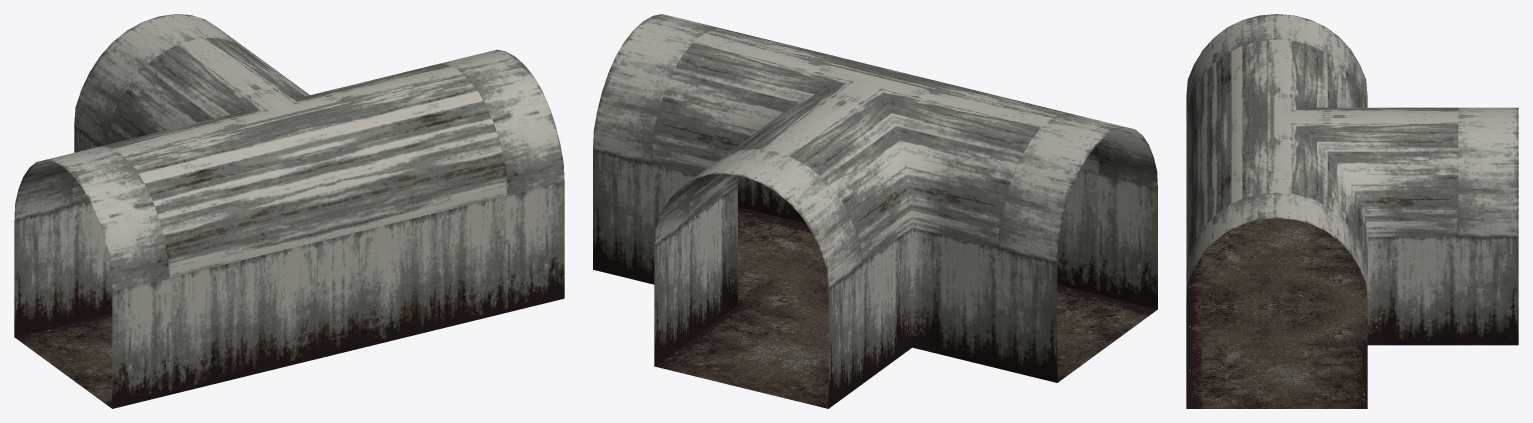
Rendered from SM_EC_ConcreteTunnel_T_0.fbx.
3 renders of one model, left to right at view 1: azimuth 30°, elevation 25°; view 2: azimuth 150°, elevation 25°; view 3: azimuth 270°, elevation 25°, orthographic. The views are drawn at different scales.
Parts seen in each view (by area): view 1: SM_EC_ConcreteTunnel_T_0; view 2: SM_EC_ConcreteTunnel_T_0; view 3: SM_EC_ConcreteTunnel_T_0.
Boxes of the visible parts, box(x1,y1,x2,y2) form: SM_EC_ConcreteTunnel_T_0: box(14, 14, 564, 408); SM_EC_ConcreteTunnel_T_0: box(593, 14, 1157, 408); SM_EC_ConcreteTunnel_T_0: box(1186, 14, 1518, 408).
Size of the model in its own units: 8 by 5.5 by 3.48.
